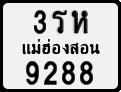letters: (50, 9, 68, 35), (71, 9, 89, 34), (43, 60, 58, 86), (61, 60, 76, 86), (32, 9, 47, 34), (25, 60, 40, 85), (79, 61, 94, 86)
province: (21, 38, 101, 57)
